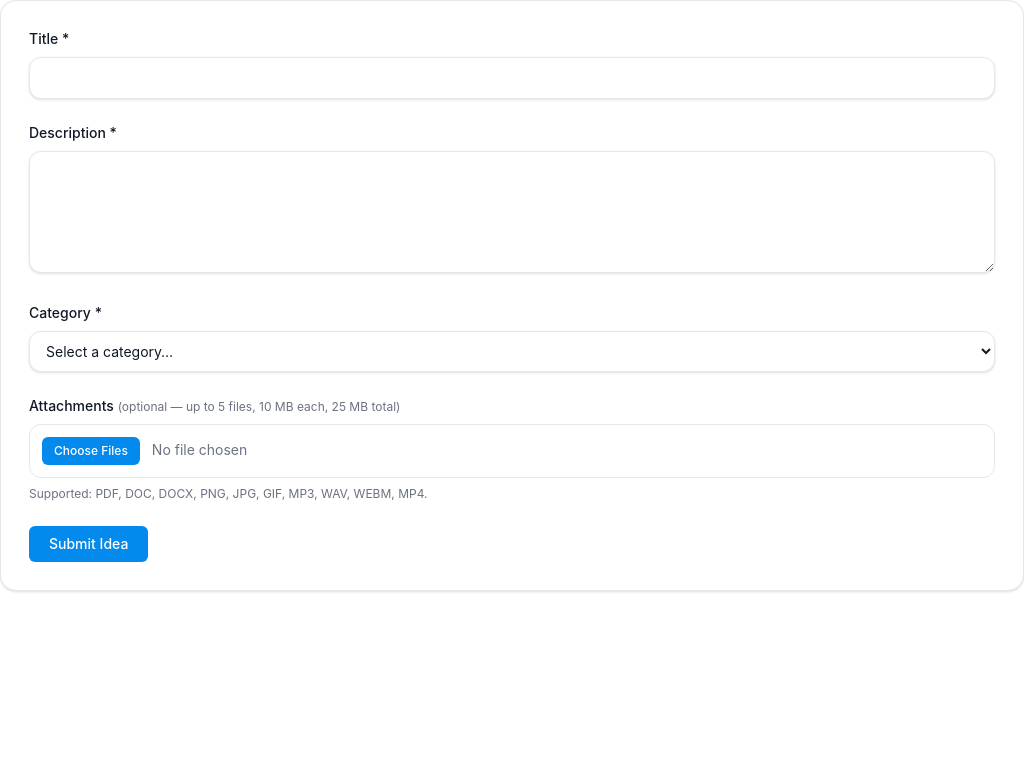
IdeaForm › shows validation errors when submitted empty
Click the button "Submit Idea".
click(89, 544)  # box 29,526 -> 148,562
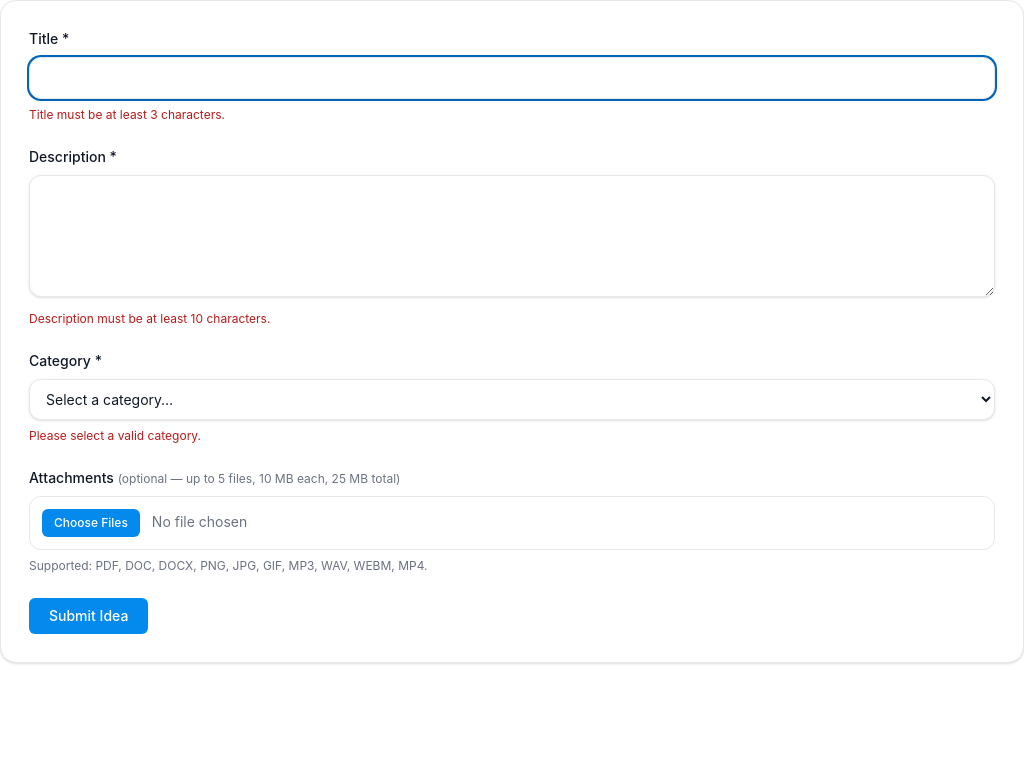
Expected: the text "Title must be at least 3 characters." is shown, 29,107 -> 225,122
Expected: the text "Description must be at least 10 characters." is shown, 29,311 -> 270,326
Expected: the text "Please select a valid category." is shown, 29,428 -> 201,443
